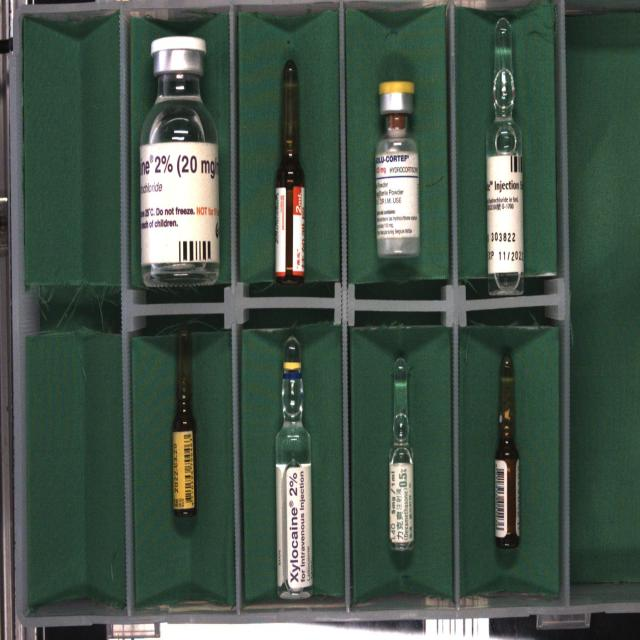Vials: (140, 37, 220, 286), (375, 81, 419, 258)
